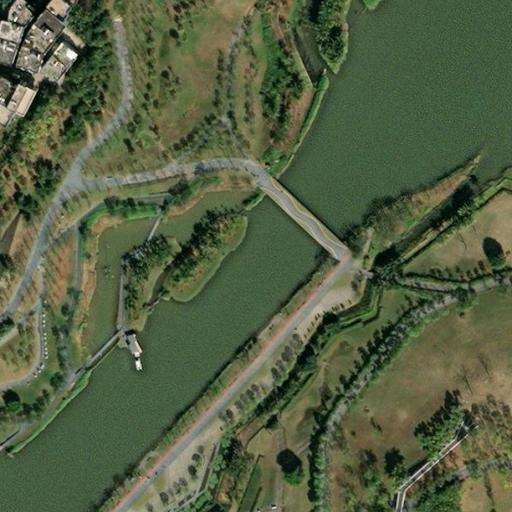building: (18, 44, 55, 79), (0, 74, 31, 114), (25, 26, 61, 59), (47, 14, 81, 47), (18, 88, 47, 122), (50, 42, 82, 72), (44, 61, 71, 89), (19, 0, 46, 14)
